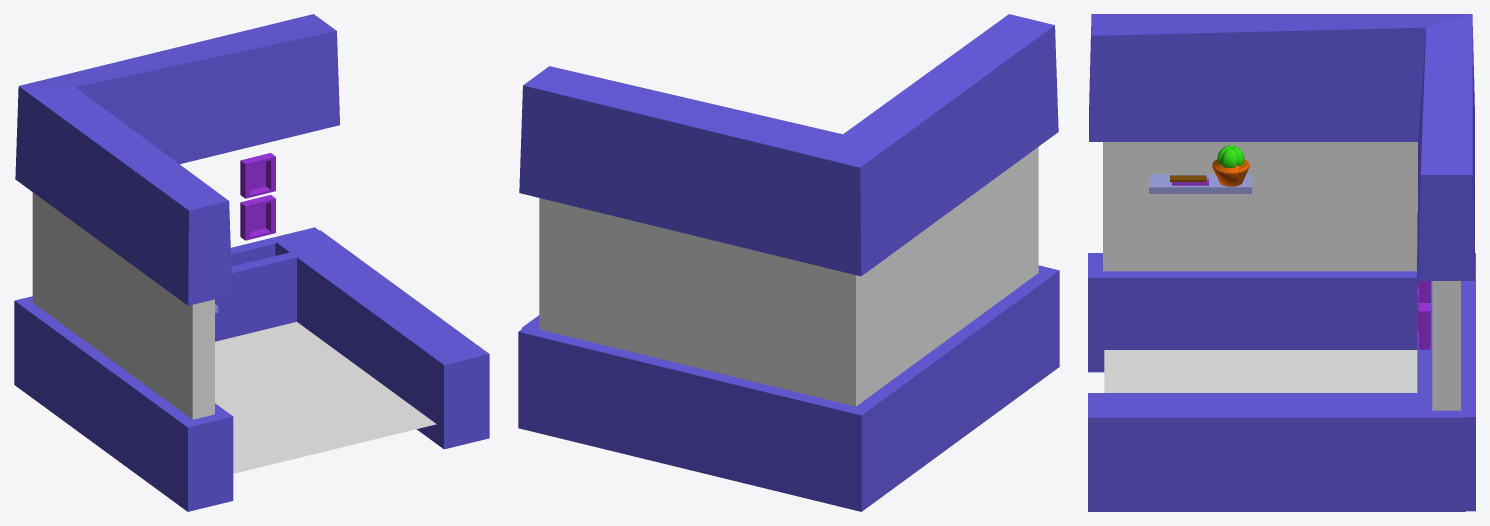
The model's file is temp-room2.glb.
The picture shows the model from 3 angles, left to right: view 1: azimuth 30°, elevation 25°; view 2: azimuth 150°, elevation 25°; view 3: azimuth 270°, elevation 25°; orthographic projection. The views are drawn at different scales.
Visible parts, largest first — view 1: Cube, Plane, Cube.002; view 2: Cube; view 3: Cube, Plane, bar, Cube.002, pot, Sphere.
Part boxes in pixels (x1=…): Cube: x1=14, y1=14, x2=489, y2=511; Plane: x1=215, y1=322, x2=436, y2=473; Cube.002: x1=240, y1=153, x2=275, y2=240; Cube: x1=518, y1=14, x2=1059, y2=511; Cube: x1=1088, y1=14, x2=1475, y2=511; Plane: x1=1104, y1=350, x2=1417, y2=392; bar: x1=1149, y1=174, x2=1251, y2=193; Cube.002: x1=1417, y1=247, x2=1430, y2=349; pot: x1=1212, y1=159, x2=1249, y2=186; Sphere: x1=1217, y1=145, x2=1244, y2=167.
Size of what is drawn, in the model's own units: 8.61 by 8.31 by 8.57.
